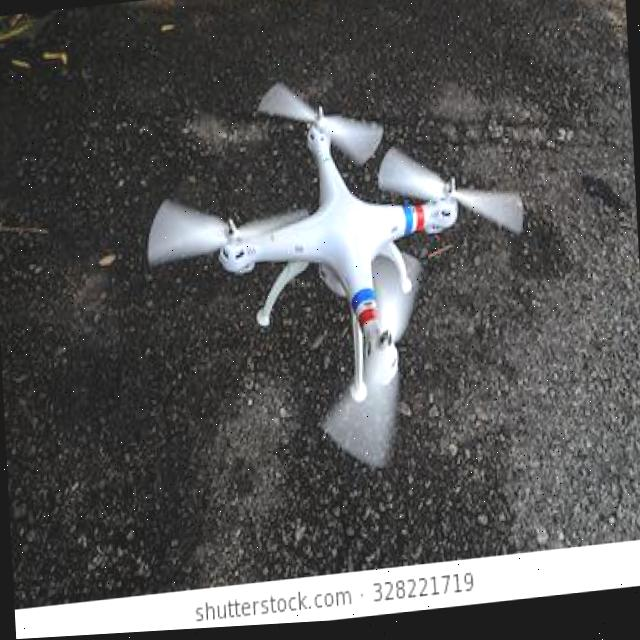drone: (98, 7, 584, 501)
